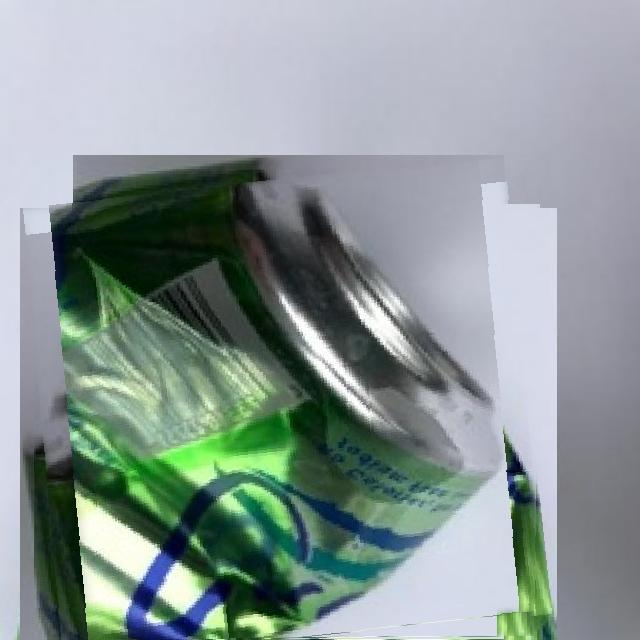recyclable: (34, 169, 541, 640)
